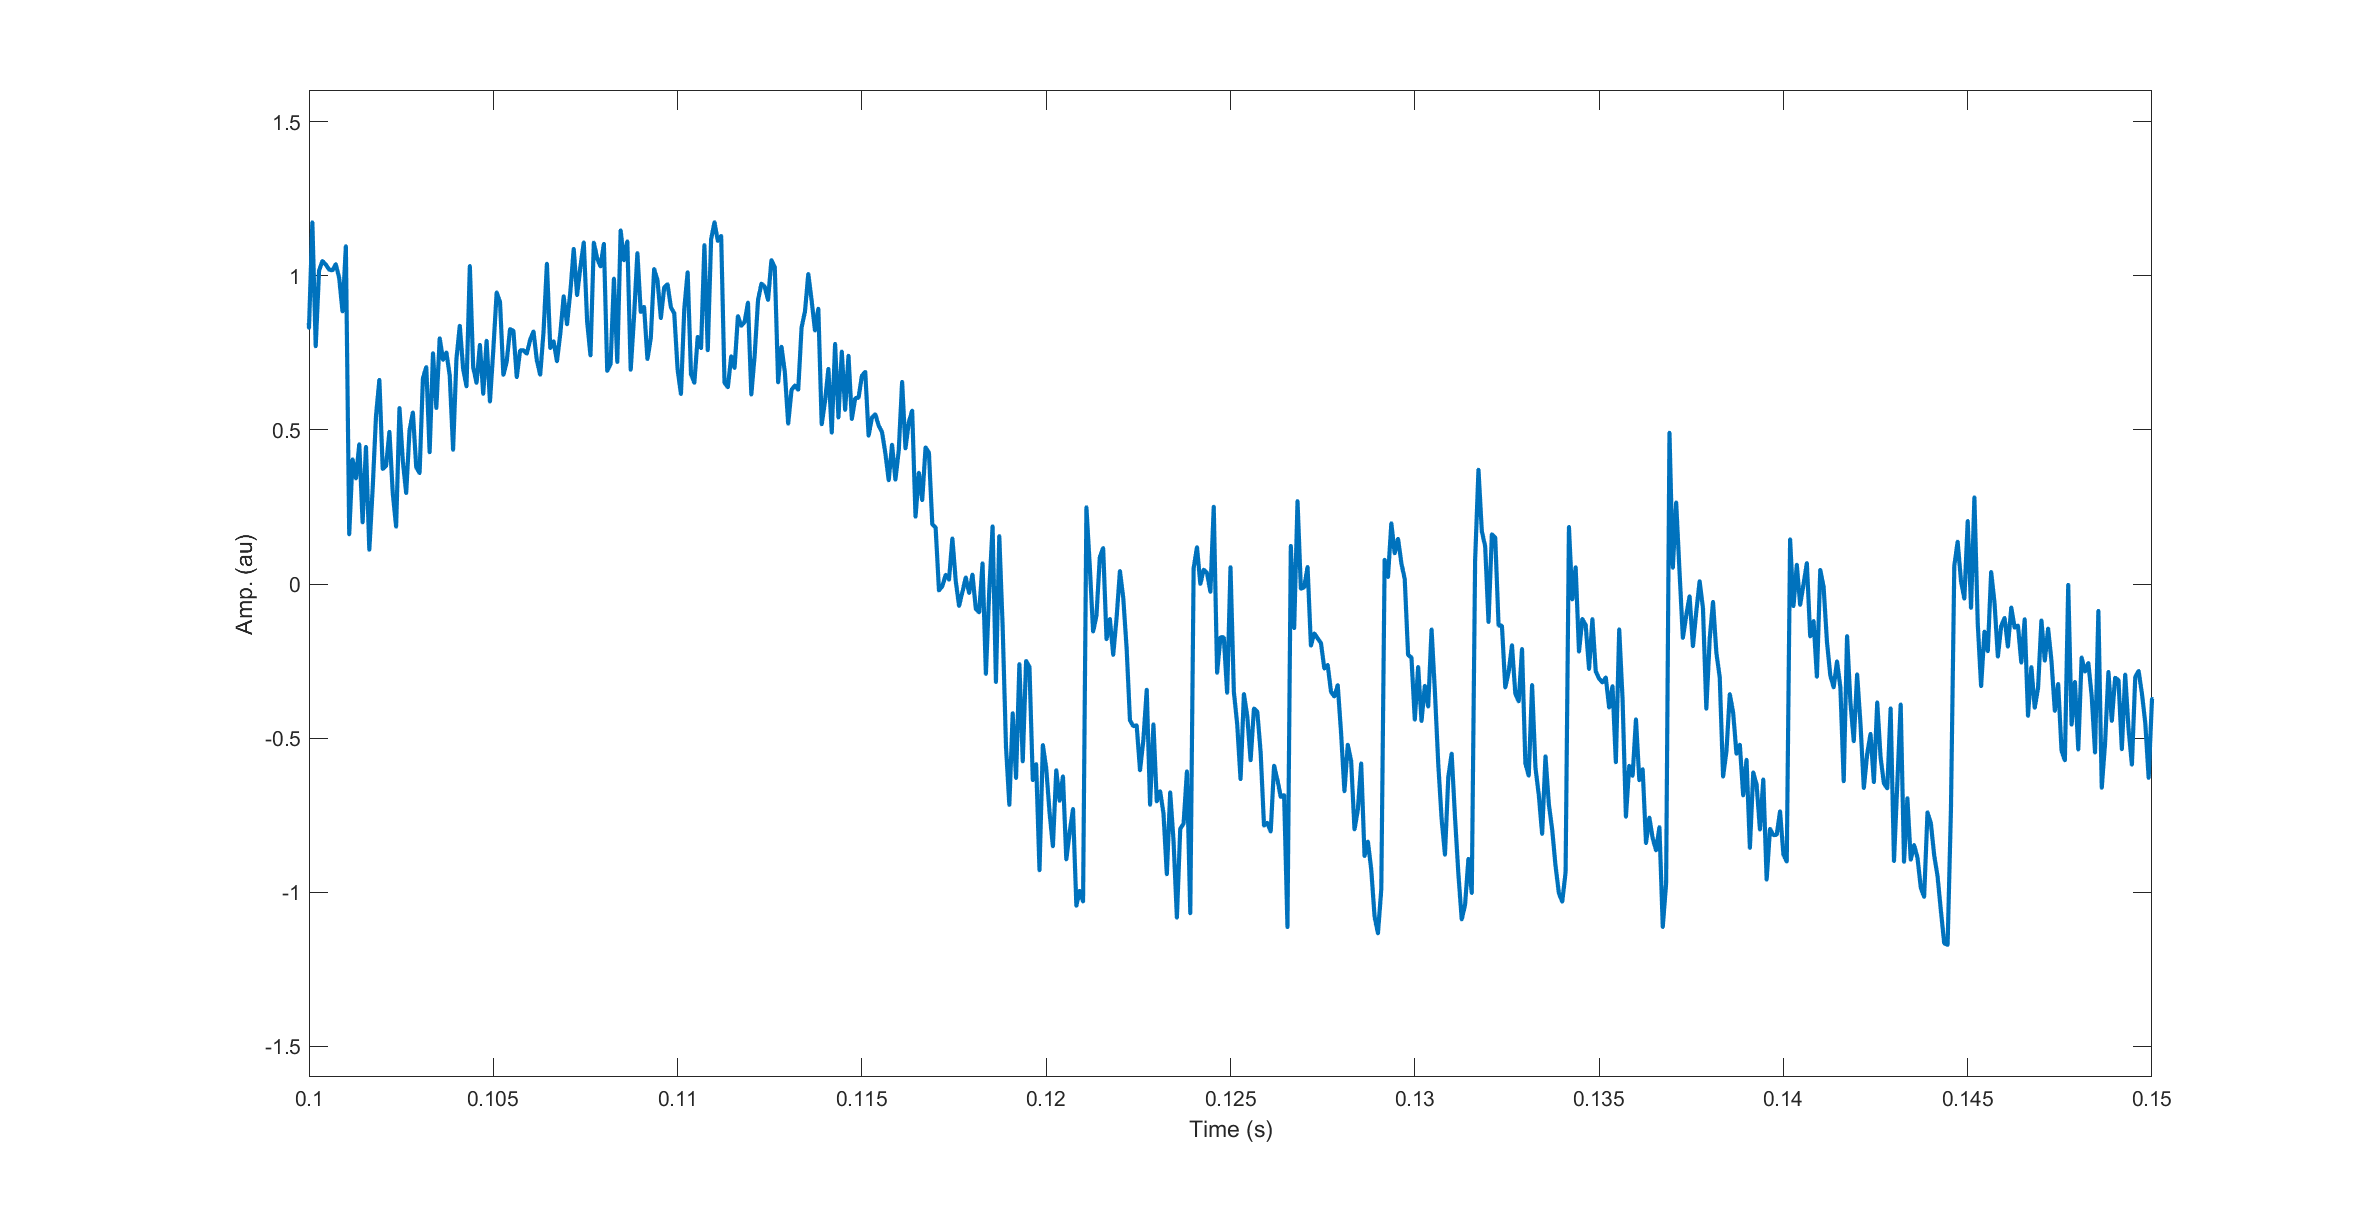negative_fringe: (1938, 478, 2083, 917), (1775, 512, 1934, 911), (1656, 417, 1765, 901), (1069, 482, 1182, 901), (1369, 503, 1460, 949), (1464, 455, 1552, 912), (1557, 508, 1650, 901), (1181, 499, 1270, 904), (1278, 488, 1360, 928)
